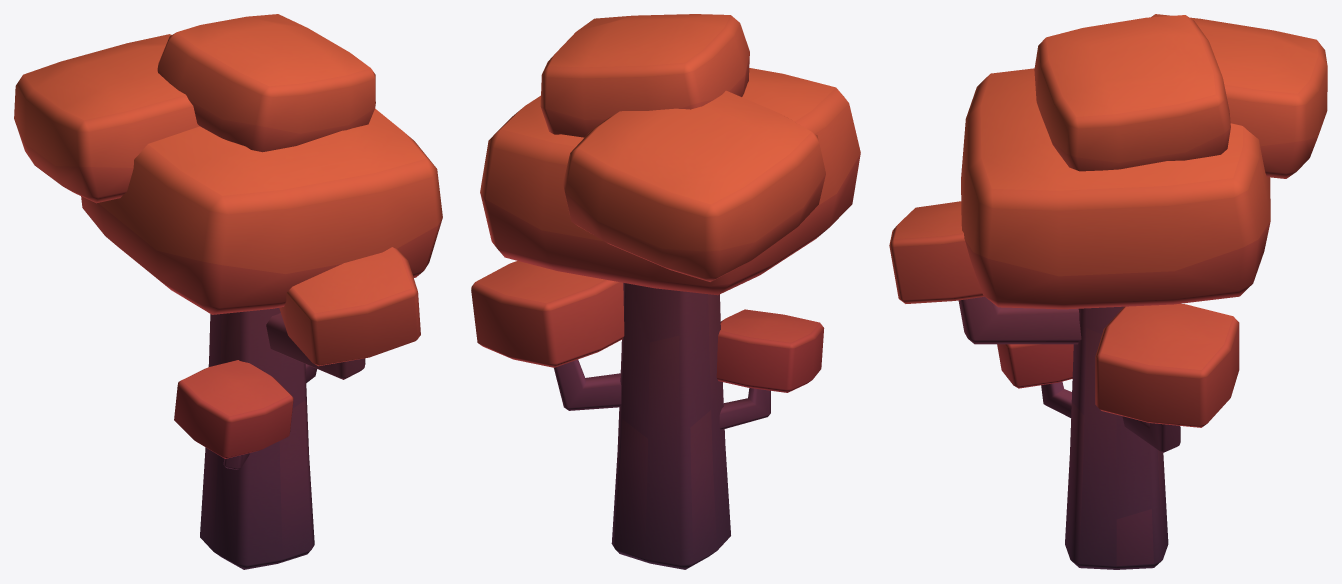
File: grassland_tree_free.fbx
3 renders of one model, left to right at view 1: azimuth 30°, elevation 25°; view 2: azimuth 150°, elevation 25°; view 3: azimuth 270°, elevation 25°, orthographic. The views are drawn at different scales.
Parts seen in each view (by area): view 1: grassland_tree_SC_05; view 2: grassland_tree_SC_05; view 3: grassland_tree_SC_05.
Boxes of the visible parts, left/top/right/bottom form: grassland_tree_SC_05: left=14, top=14, right=442, bottom=569; grassland_tree_SC_05: left=471, top=14, right=860, bottom=569; grassland_tree_SC_05: left=889, top=14, right=1327, bottom=569.
Bounding box in the file's own units: 74.61 × 113 × 87.66.
